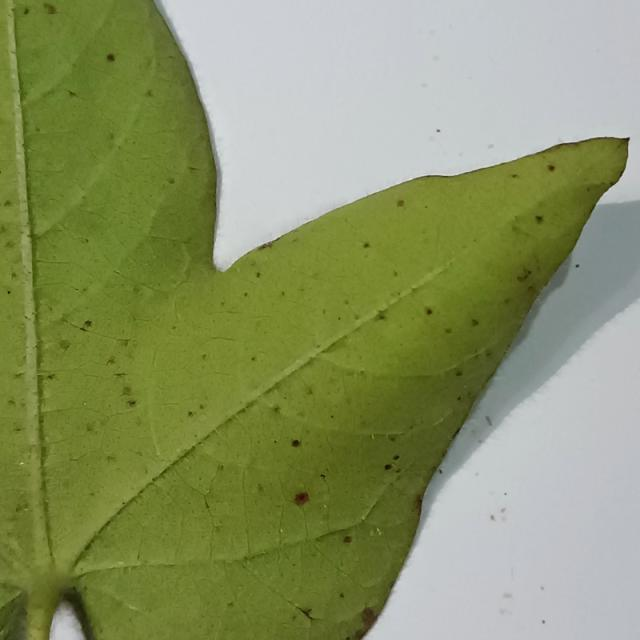Bacterial_Blight: (93, 47, 128, 75), (289, 482, 315, 515), (282, 431, 306, 453), (122, 391, 144, 415), (511, 219, 536, 238), (550, 140, 587, 152), (136, 284, 155, 302), (79, 314, 95, 334), (361, 608, 376, 625), (421, 305, 437, 316), (516, 271, 530, 283), (355, 626, 369, 638), (15, 503, 28, 515), (43, 3, 57, 14), (116, 338, 131, 348), (59, 339, 71, 351), (301, 606, 313, 618), (24, 309, 35, 321), (131, 285, 142, 296), (375, 311, 387, 321), (415, 495, 423, 510), (126, 604, 139, 613), (203, 496, 211, 510), (74, 562, 84, 573), (122, 385, 132, 395), (106, 356, 116, 366), (85, 422, 95, 432), (370, 527, 381, 536), (261, 241, 273, 249), (499, 608, 511, 616), (67, 90, 77, 98), (106, 455, 116, 463), (273, 404, 281, 414), (471, 318, 479, 327), (145, 89, 154, 97), (526, 284, 535, 292), (257, 483, 264, 493), (14, 371, 24, 378), (485, 416, 492, 426), (354, 634, 365, 640), (535, 215, 543, 223), (388, 434, 396, 442), (343, 536, 352, 543), (167, 177, 176, 184), (46, 374, 55, 381), (503, 592, 512, 599), (362, 242, 370, 249), (384, 464, 392, 471), (397, 199, 404, 207), (547, 164, 555, 171), (3, 200, 11, 207), (23, 7, 30, 15), (203, 486, 210, 494), (188, 166, 199, 171), (455, 370, 462, 377), (353, 313, 360, 320), (359, 368, 365, 376), (445, 328, 452, 334), (392, 455, 399, 461), (201, 353, 207, 360), (227, 601, 234, 607), (421, 82, 428, 88), (487, 143, 494, 149), (255, 272, 261, 278), (187, 411, 193, 417), (199, 404, 205, 410), (171, 325, 177, 331), (500, 507, 506, 513), (511, 173, 518, 178), (339, 592, 344, 599), (490, 514, 495, 521), (251, 356, 256, 362), (281, 290, 286, 296), (320, 474, 326, 479), (438, 468, 443, 474), (243, 292, 248, 297), (540, 586, 545, 591), (371, 433, 375, 439), (345, 637, 352, 640), (574, 264, 579, 268), (7, 290, 11, 295), (542, 619, 546, 624), (19, 462, 24, 466), (436, 129, 440, 133), (83, 402, 87, 406), (280, 528, 283, 533), (504, 492, 507, 496)
Cotton: (0, 0, 627, 639)
